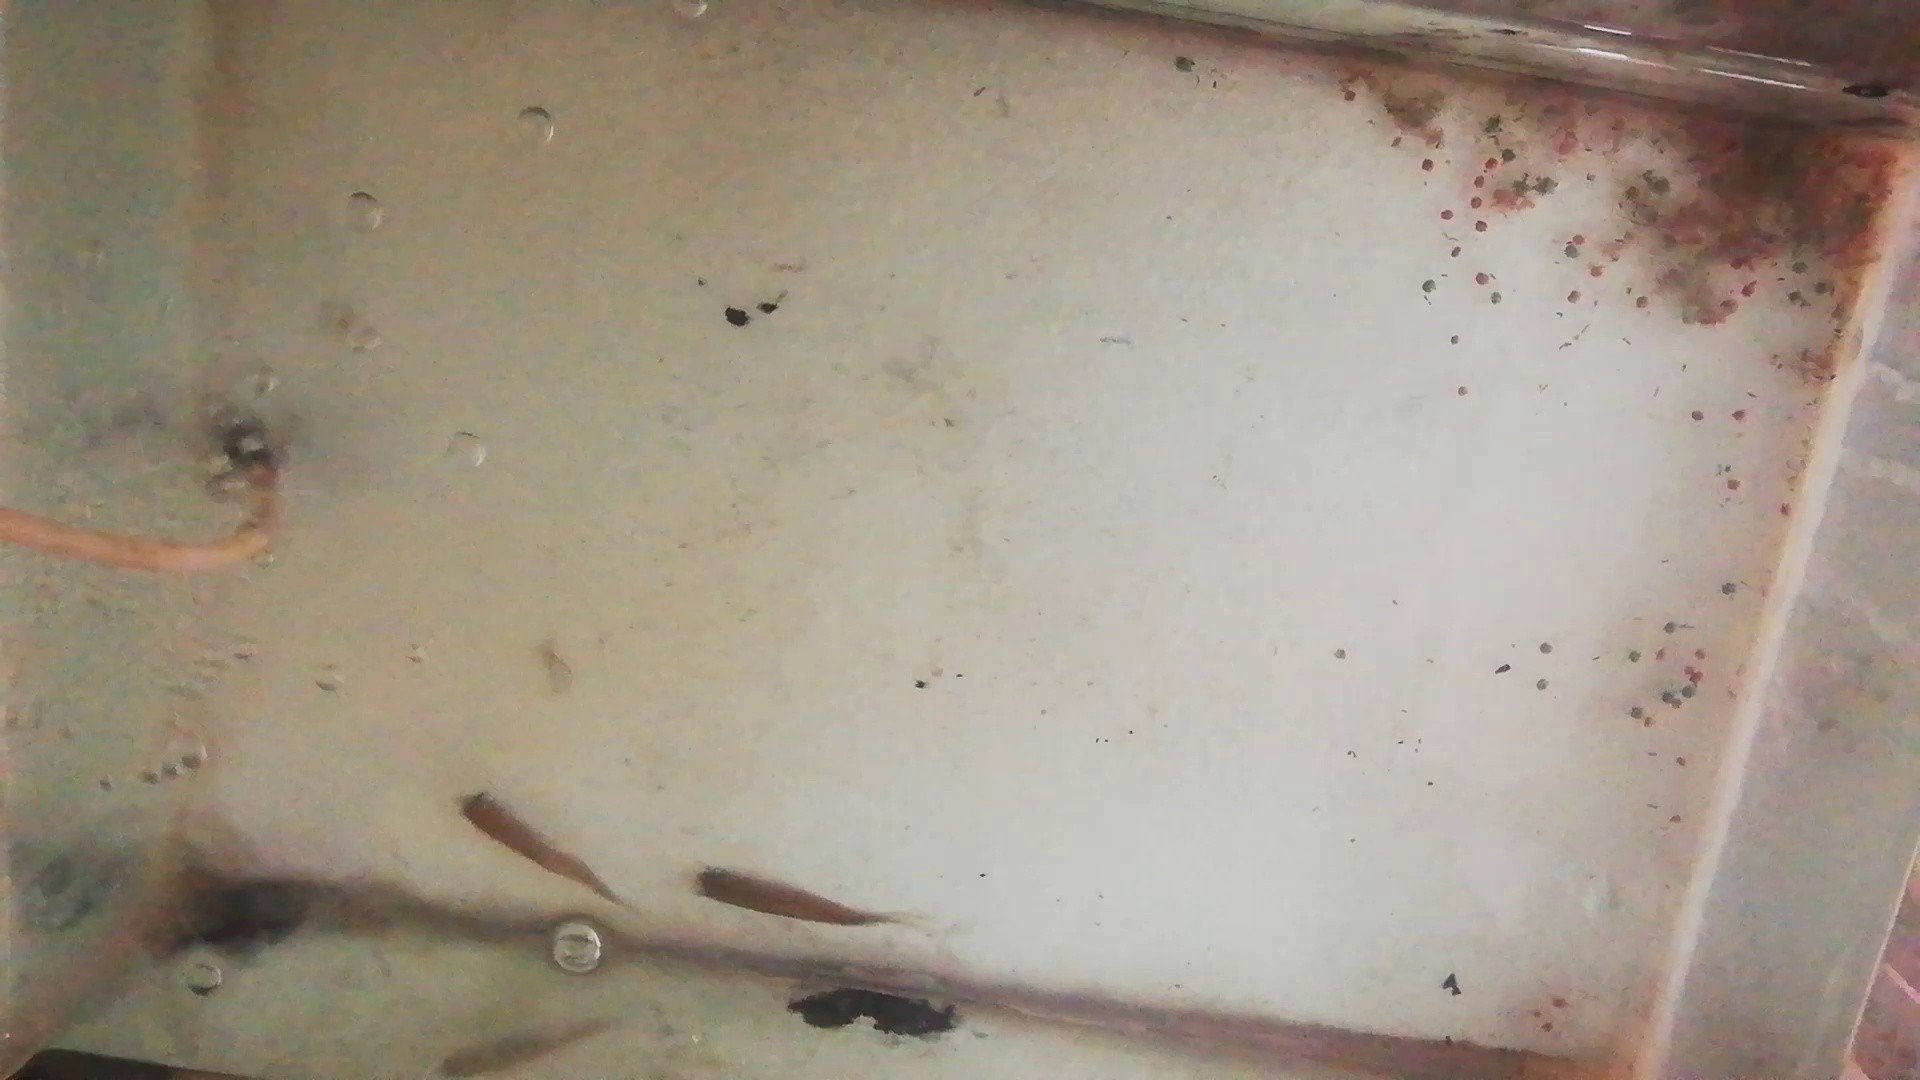fish: (454, 787, 620, 901), (684, 862, 887, 930)
